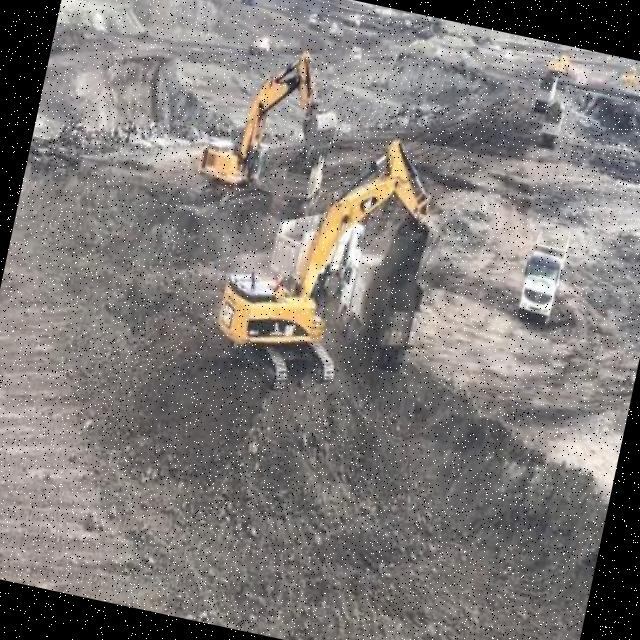Dump Truck: (328, 250, 429, 382), (270, 204, 366, 295), (510, 224, 572, 332), (281, 144, 324, 215), (539, 103, 563, 144), (535, 74, 556, 105)
Excavator: (199, 91, 459, 428), (187, 30, 356, 240)
